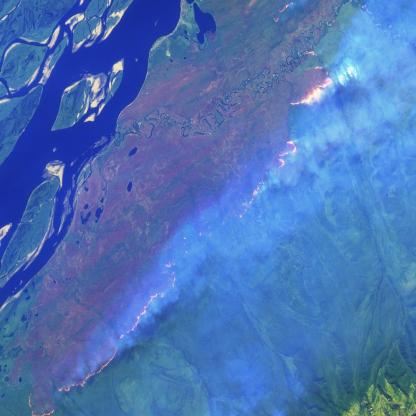fire: (25, 0, 337, 416)
